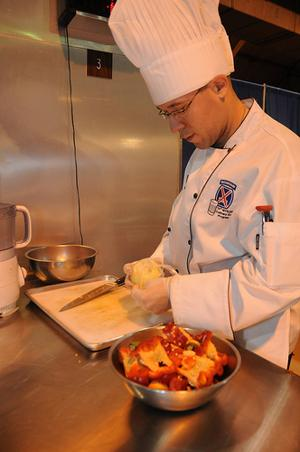person: (108, 3, 300, 375)
